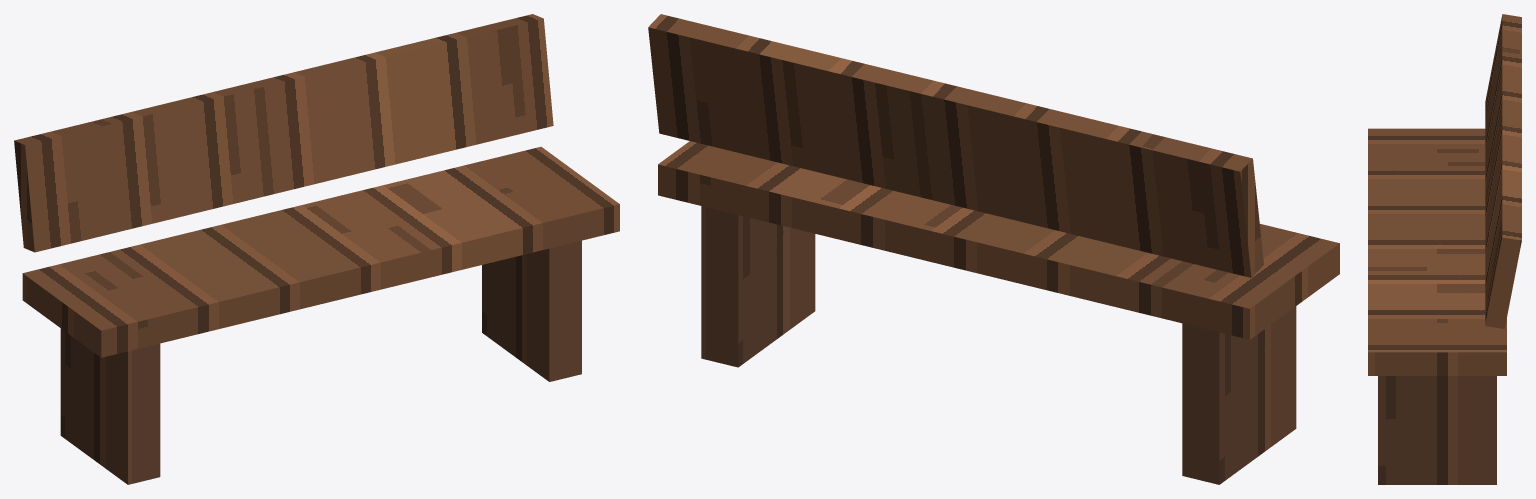
File: bench.glb
3 renders of one model, left to right at view 1: azimuth 30°, elevation 25°; view 2: azimuth 150°, elevation 25°; view 3: azimuth 270°, elevation 25°, orthographic. The views are drawn at different scales.
Visible parts, largest first — view 1: Bench; view 2: Bench; view 3: Bench.
Boxes of the visible parts, <box> form: Bench: <box>14,14,619,484</box>; Bench: <box>648,14,1339,484</box>; Bench: <box>1368,14,1521,484</box>.
Size of the model in its own units: 1.6 by 0.873 by 0.4657.
2 materials, 2 textured.
